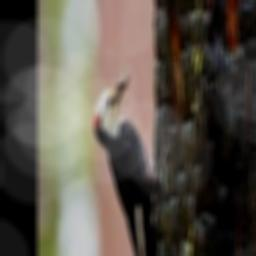Woodpecker: (95, 69, 169, 256)
